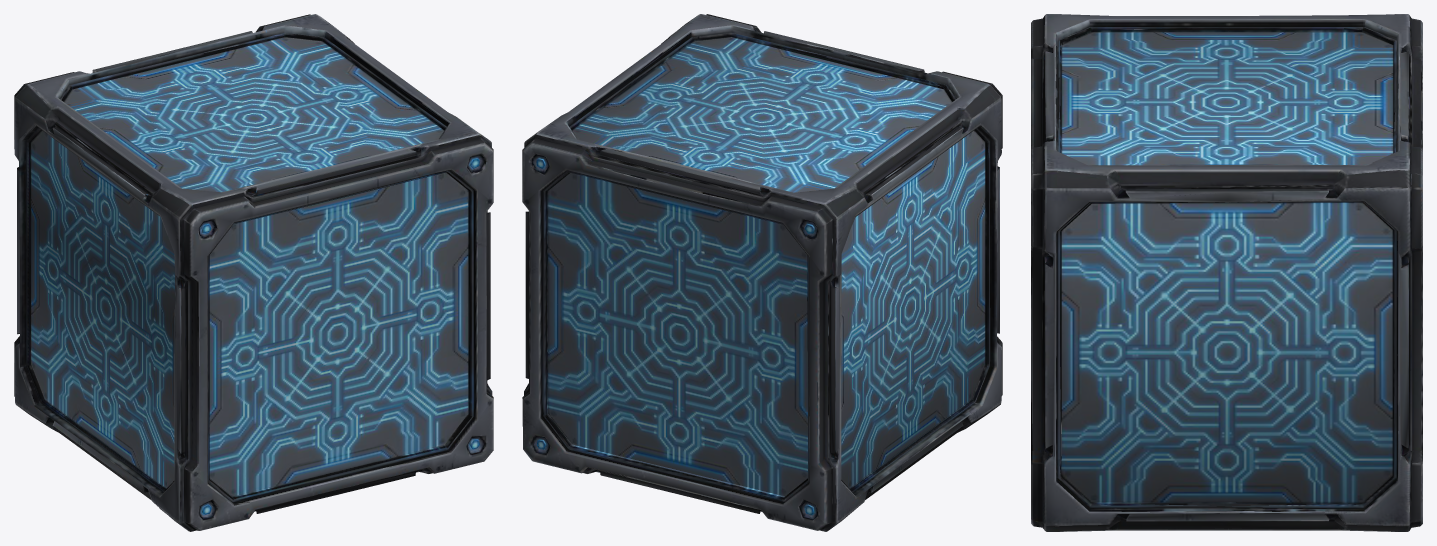
The model's file is selected.glb.
The picture shows the model from 3 angles, left to right: view 1: azimuth 30°, elevation 25°; view 2: azimuth 150°, elevation 25°; view 3: azimuth 270°, elevation 25°; orthographic projection. The views are drawn at different scales.
Visible parts, largest first — view 1: tripo_node_3693f78c-c55a-4d91-80d0-da2aa797f5a8; view 2: tripo_node_3693f78c-c55a-4d91-80d0-da2aa797f5a8; view 3: tripo_node_3693f78c-c55a-4d91-80d0-da2aa797f5a8.
Part boxes in pixels (x1,y1,x2,y2): tripo_node_3693f78c-c55a-4d91-80d0-da2aa797f5a8: (14,14,493,531); tripo_node_3693f78c-c55a-4d91-80d0-da2aa797f5a8: (522,14,1002,531); tripo_node_3693f78c-c55a-4d91-80d0-da2aa797f5a8: (1031,14,1422,531).
Bounding box in the file's own units: 0.998 × 0.998 × 0.9785.
Materials: 1 (1 with a texture image).
